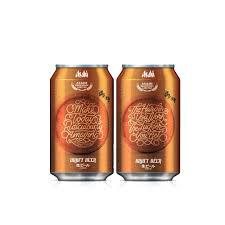beer: (41, 57, 186, 190)
